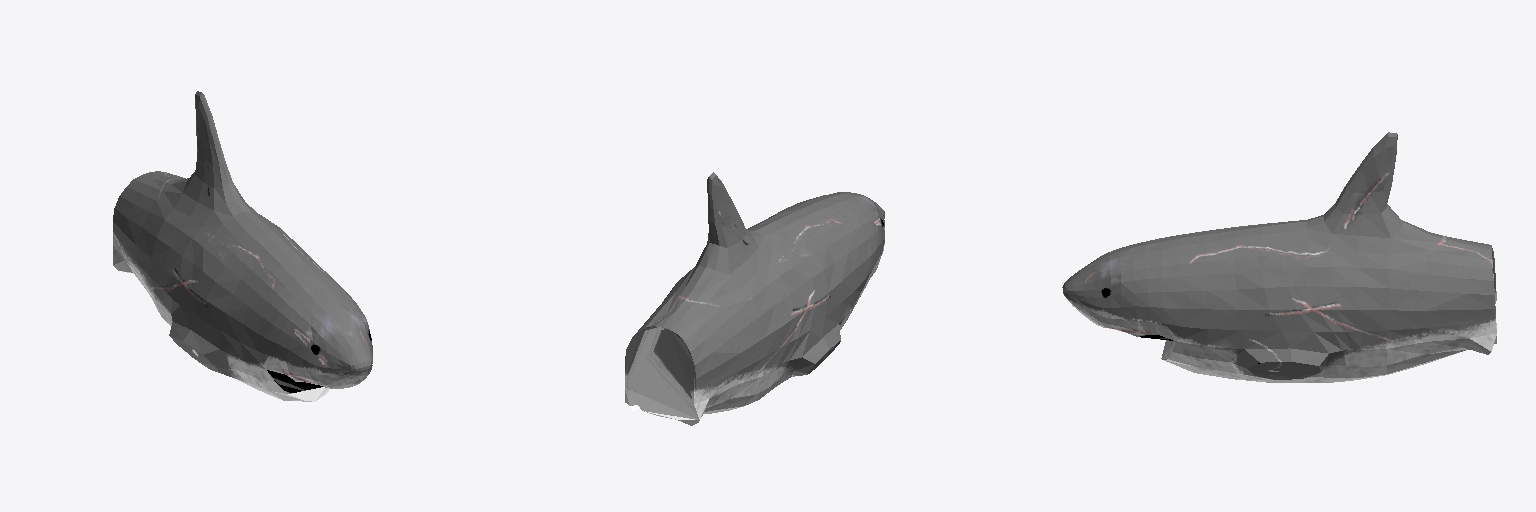
3 renders of one model, left to right at view 1: azimuth 30°, elevation 25°; view 2: azimuth 150°, elevation 25°; view 3: azimuth 270°, elevation 25°, orthographic.
Parts seen in each view (by area): view 1: Shark_Mesh; view 2: Shark_Mesh; view 3: Shark_Mesh.
Boxes of the visible parts, <box> form: Shark_Mesh: <box>113,91,372,401</box>; Shark_Mesh: <box>625,172,884,425</box>; Shark_Mesh: <box>1062,132,1496,382</box>.
Bounding box in the file's own units: 103 × 180 × 287.
Materials: 1 (1 with a texture image).